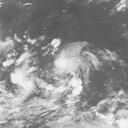cyclone: (53, 39, 103, 80)
